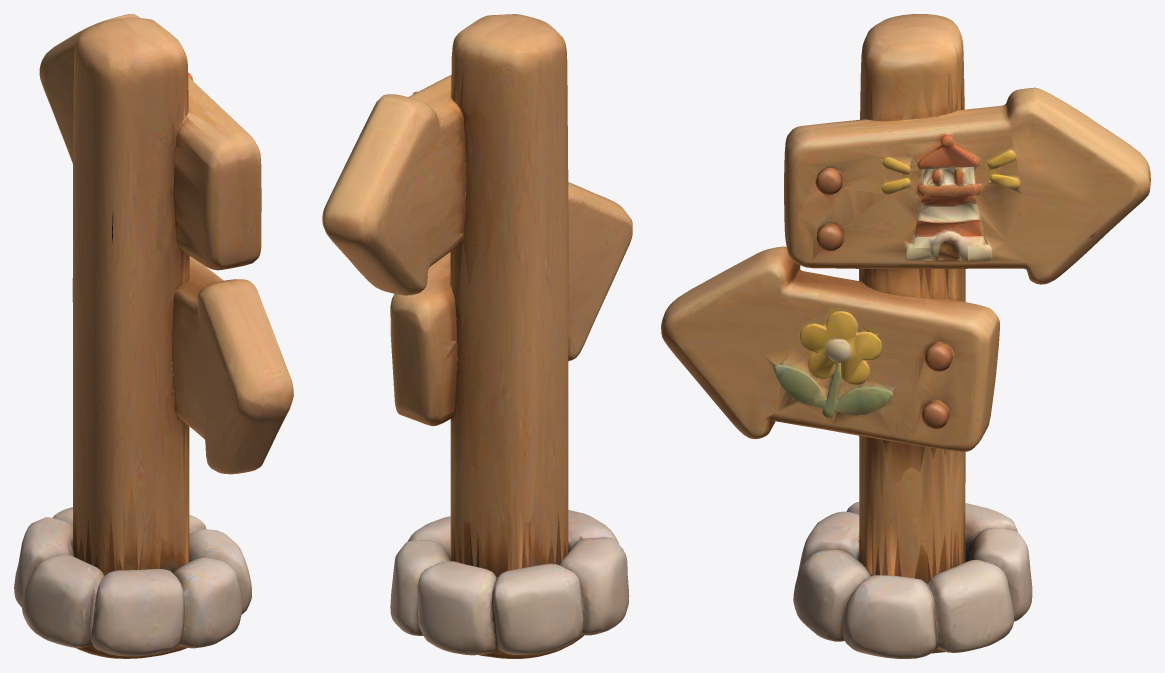
The model's file is P03-wooden-signpost.glb.
3 views of the same model, side by side, from view 1: azimuth 30°, elevation 25°; view 2: azimuth 150°, elevation 25°; view 3: azimuth 270°, elevation 25° (orthographic).
Visible parts, largest first — view 1: P03-wooden-signpost; view 2: P03-wooden-signpost; view 3: P03-wooden-signpost.
Boxes of the visible parts, x1,y1,x2,y2 form: P03-wooden-signpost: (14, 14, 293, 658); P03-wooden-signpost: (322, 14, 632, 658); P03-wooden-signpost: (661, 14, 1150, 658).
Size of the model in its own units: 0.6373 by 1.75 by 1.3.
Materials: 1 (1 with a texture image).
